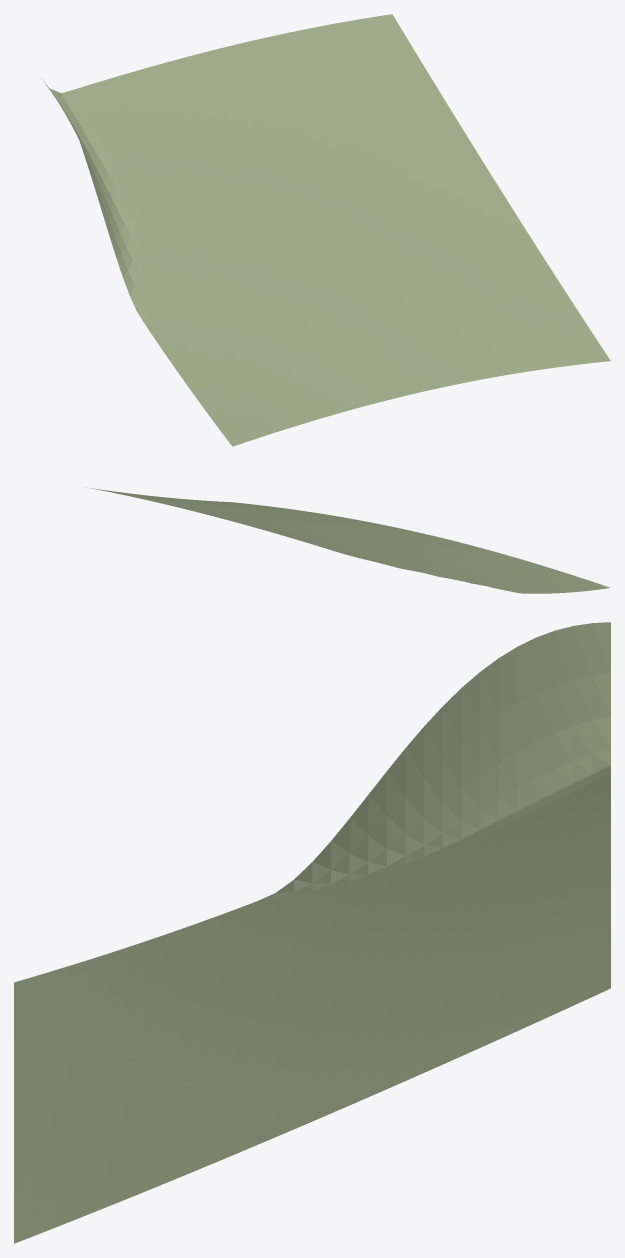
Rendered from alpine-14-12.glb.
3 renders of one model, top to bottom at view 1: azimuth 30°, elevation 25°; view 2: azimuth 150°, elevation 25°; view 3: azimuth 270°, elevation 25°, orthographic. The views are drawn at different scales.
Visible parts, largest first — view 1: alpine-14-12; view 2: alpine-14-12; view 3: alpine-14-12.
Part boxes in pixels (bbox=[...]): alpine-14-12: bbox=[42, 14, 610, 446]; alpine-14-12: bbox=[87, 487, 610, 593]; alpine-14-12: bbox=[14, 622, 610, 1243].
Size of the model in its own units: 256 by 175 by 256.
